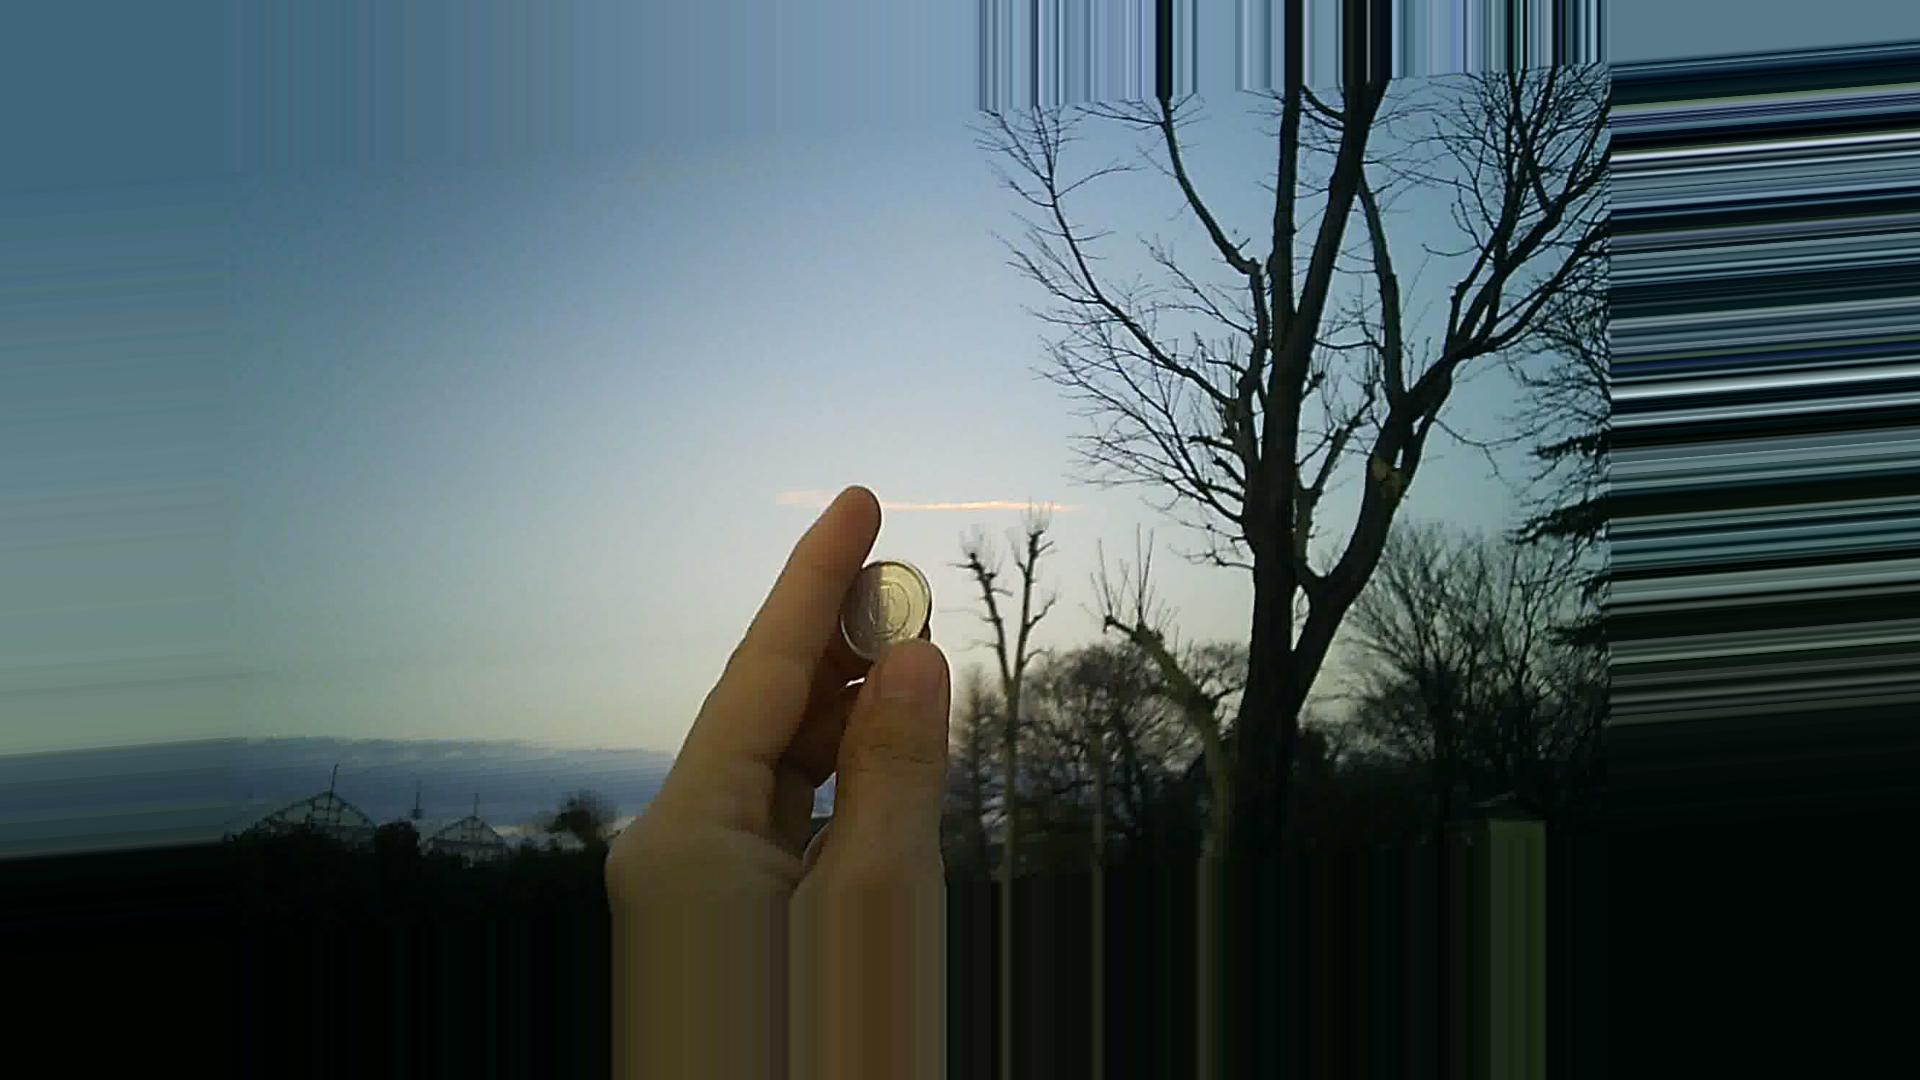1 Yen: (815, 556, 953, 673)
